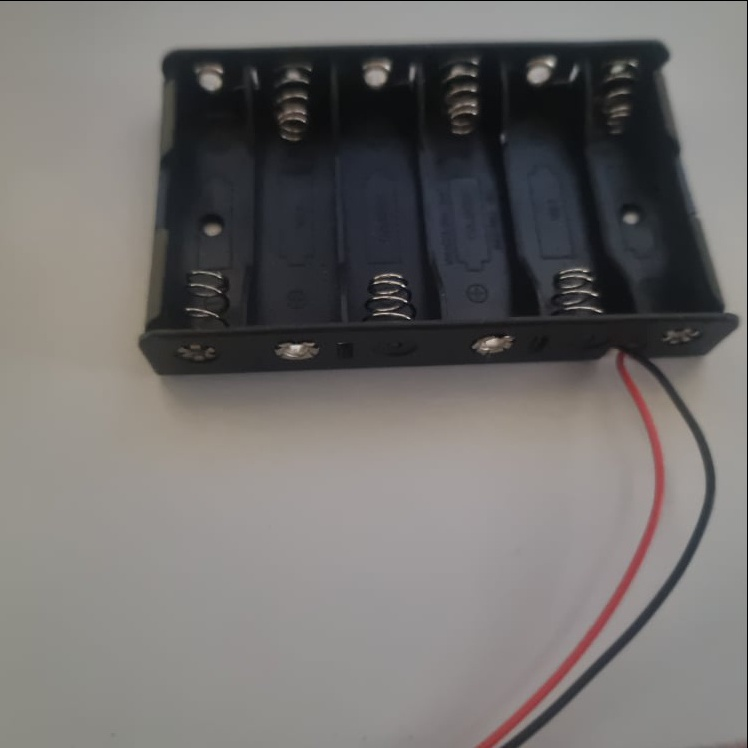BATTERY BOX: (136, 35, 740, 376)
